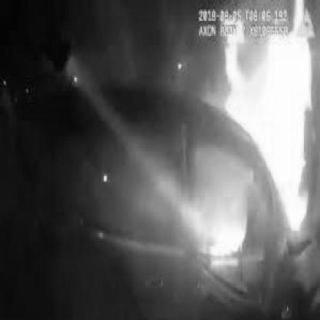Fire: (200, 0, 316, 233)
